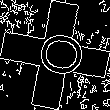O_W: (26, 29, 84, 81)
